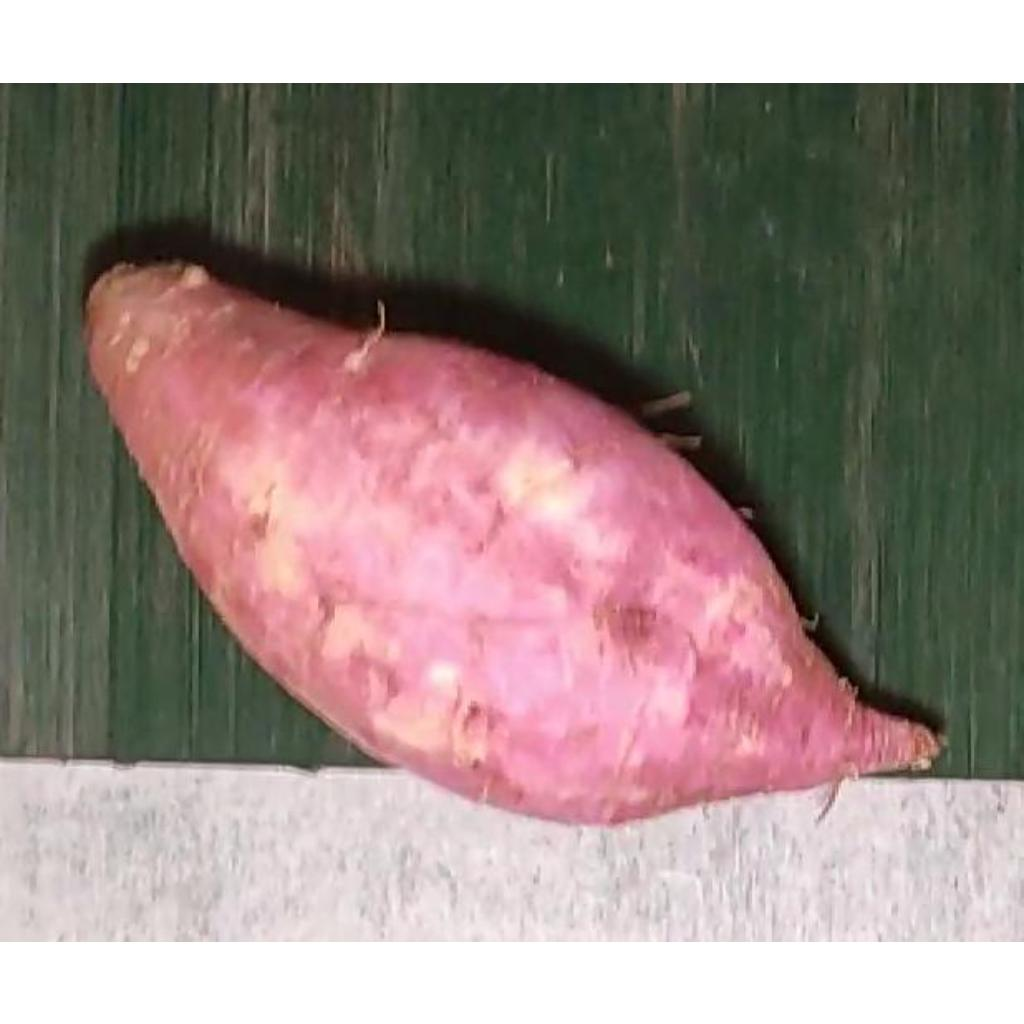Sweet Potato: (80, 256, 948, 829)
